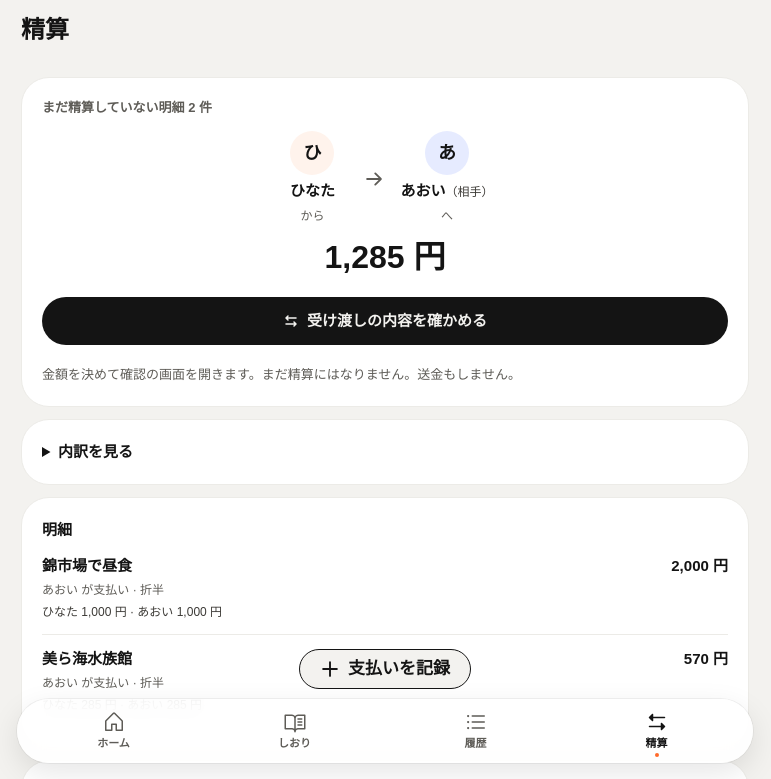
Test: 精算の画面（14・14f・14g・14i） › 送る直前に IndexedDB へ保存できなければ送らない
This screenshot has width=771, height=779.
Click the button "受け渡しの内容を確かめる": [385, 321] box [42,297,728,345]
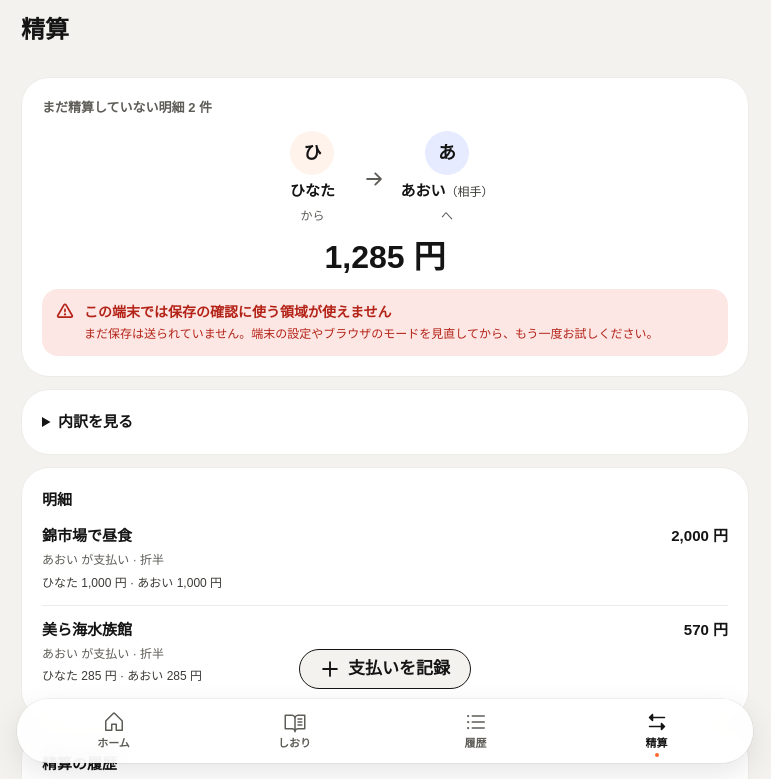
Expected: the text "この端末では保存の確認に使う領域が使えません" is shown, [84,304,392,320]
